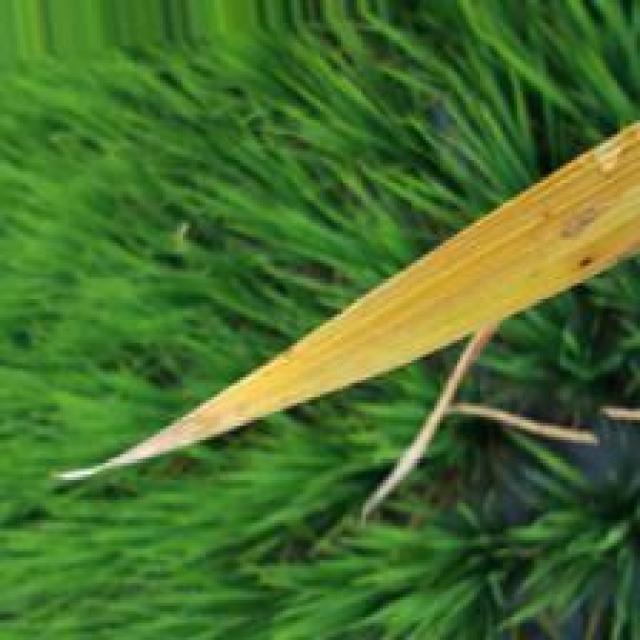Bacterial_Leaf_Blight: (66, 112, 640, 484)
